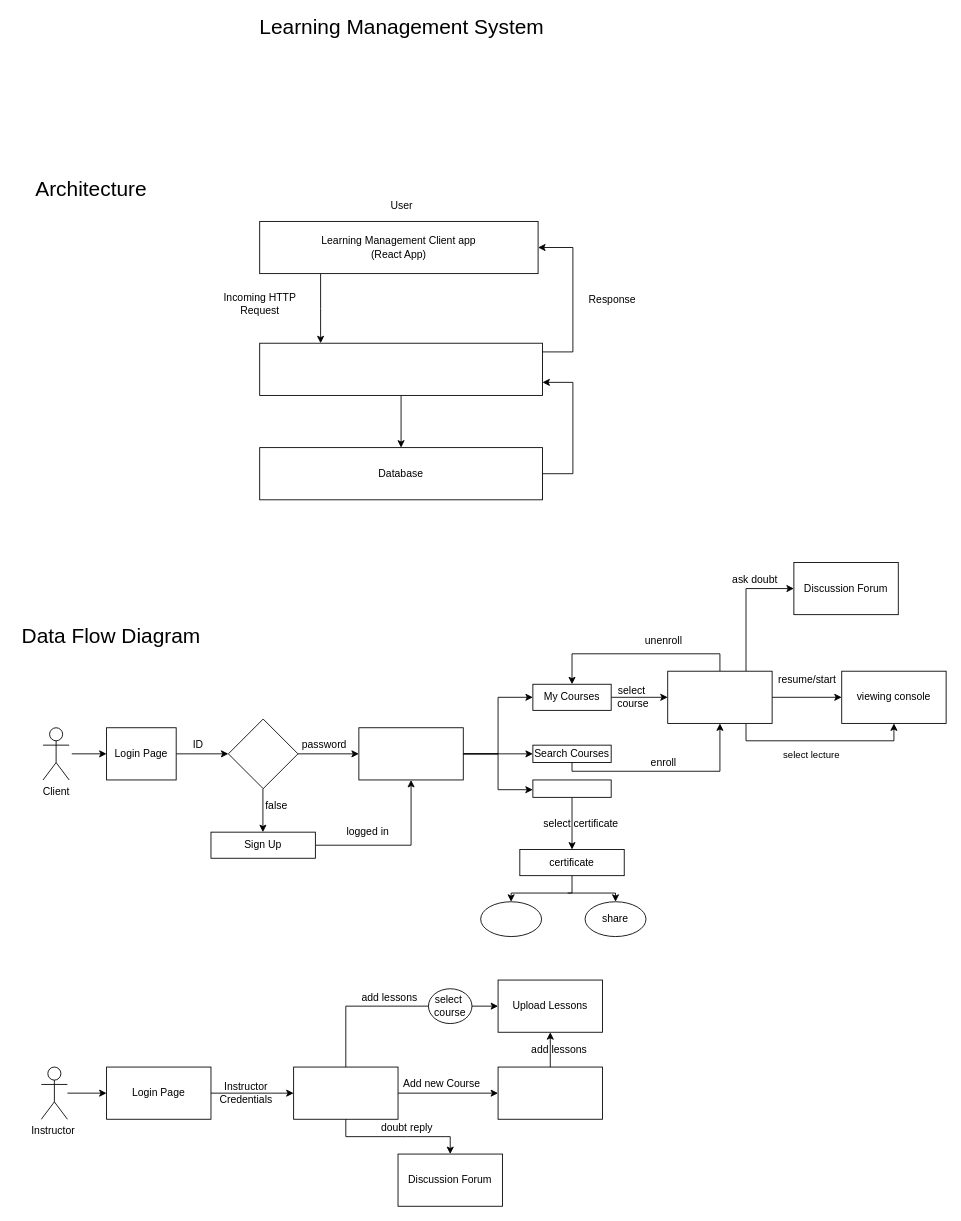
The diagram is 961 pixels wide and 1221 high, and some of its shapes have lost their labels. Each missing label, with the centre of its shape:
"Certificates" belongs at (x=571, y=788).
"Course lessons" belongs at (x=719, y=696).
"Course Registration" belongs at (x=549, y=1092).
"Dashboard" belongs at (x=410, y=753).
"download" belongs at (x=511, y=919).
"Instructor Dashboard" belongs at (x=345, y=1092).
"Learning Management Backend (Node/Express API)" belongs at (x=400, y=368).
"user exists" belongs at (x=263, y=753).
